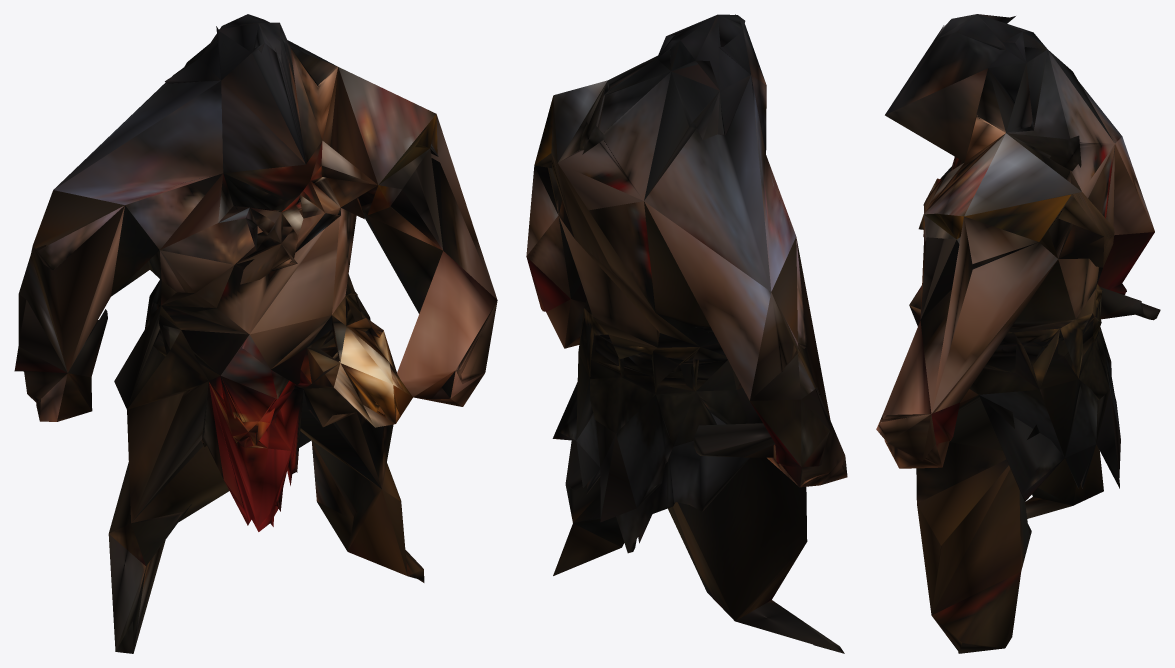
File: demo_striker_01.glb
The picture shows the model from 3 angles, left to right: view 1: azimuth 30°, elevation 25°; view 2: azimuth 150°, elevation 25°; view 3: azimuth 270°, elevation 25°; orthographic projection. The views are drawn at different scales.
Visible parts, largest first — view 1: node_0; view 2: node_0; view 3: node_0.
Boxes of the visible parts, x1,y1,x2,y2 form: node_0: (14,14,497,653); node_0: (526,14,847,653); node_0: (876,14,1160,653).
Size of the model in its own units: 0.6608 by 0.9702 by 0.4339.
Materials: 1 (1 with a texture image).
